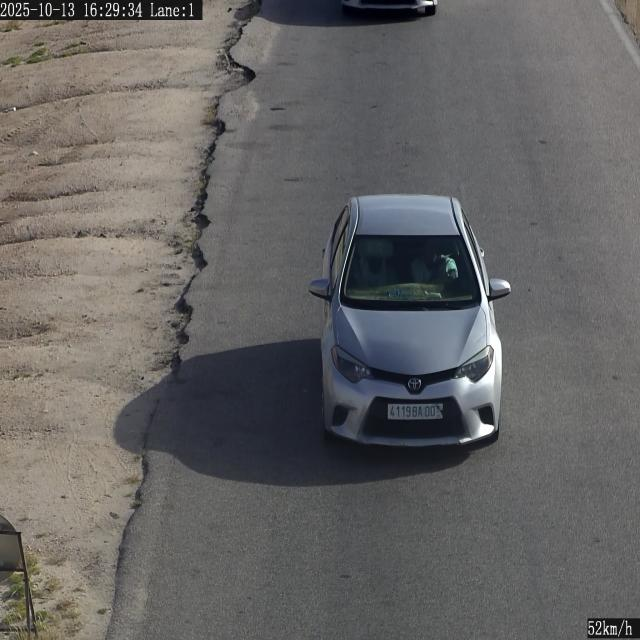BUS: (388, 404, 443, 420)
